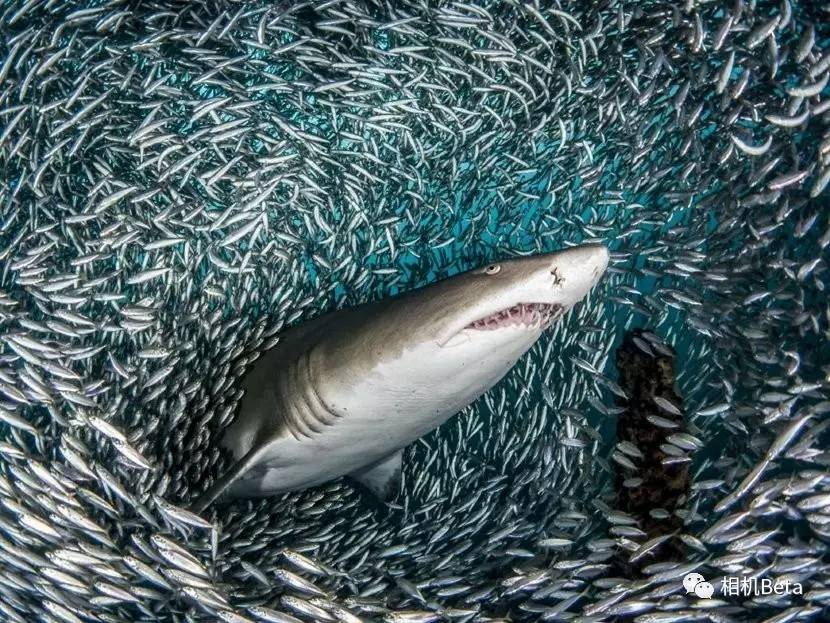shark: (171, 216, 620, 533)
